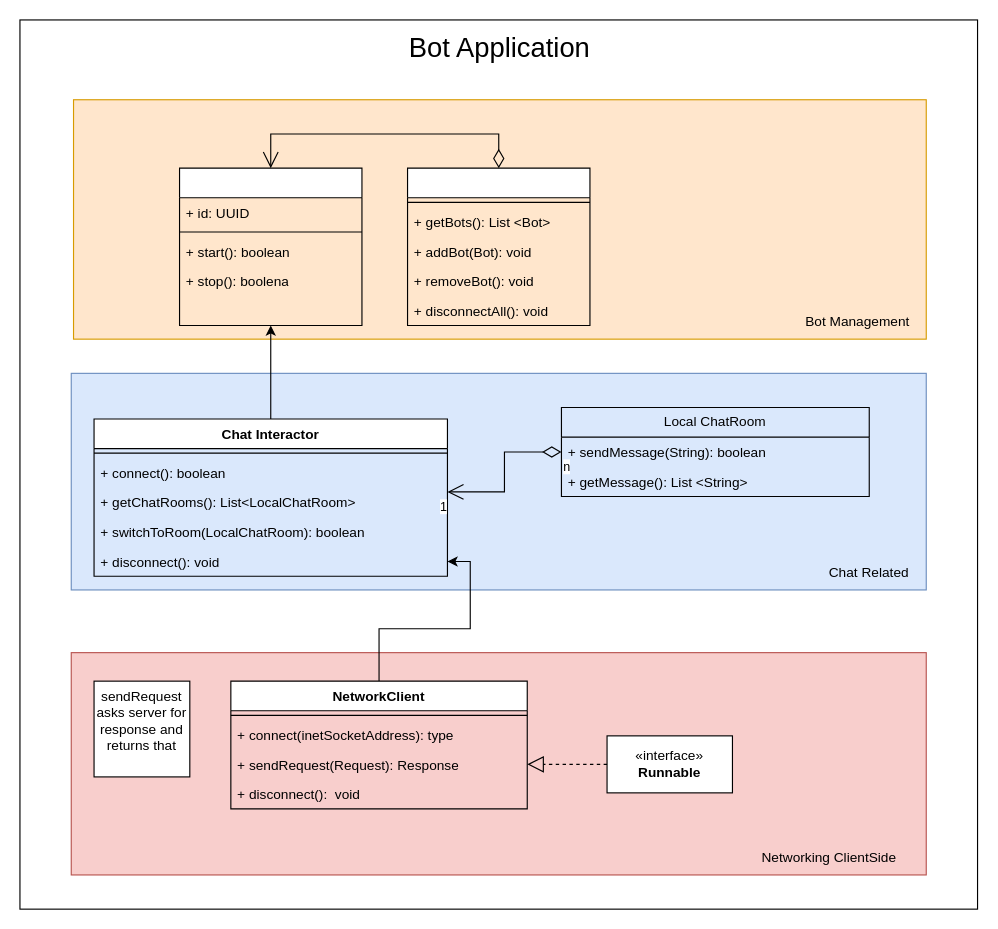
Image size: 998x929. Some labels were removed from this diagram. The shapes that lost their labels are listed below. From the top down, each one's box as (x1, y1, x2, y2) in pixels, then its label:
(178, 167, 362, 325): Bot
(406, 167, 590, 325): BotManager
